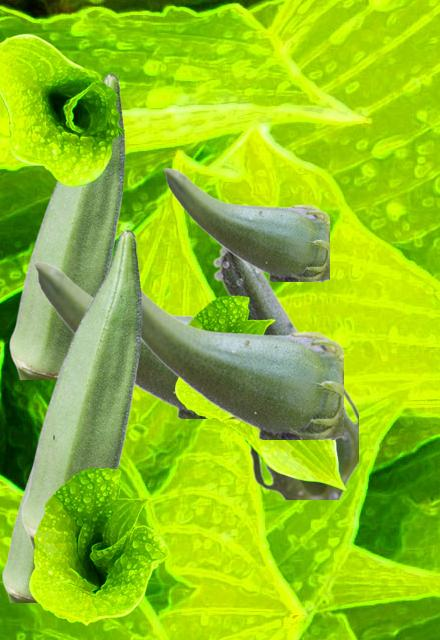okra: (21, 229, 141, 547), (212, 240, 357, 498), (9, 73, 124, 378), (141, 290, 342, 438), (33, 261, 203, 417), (163, 167, 328, 280), (2, 470, 35, 601)
